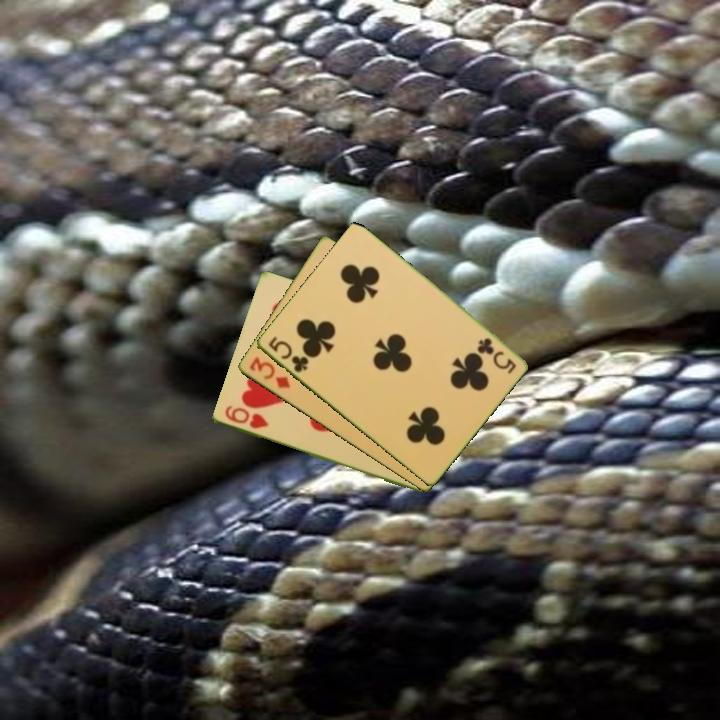3d: (245, 353, 293, 391)
5c: (264, 333, 311, 376), (474, 334, 519, 376)
6h: (221, 402, 271, 432)
